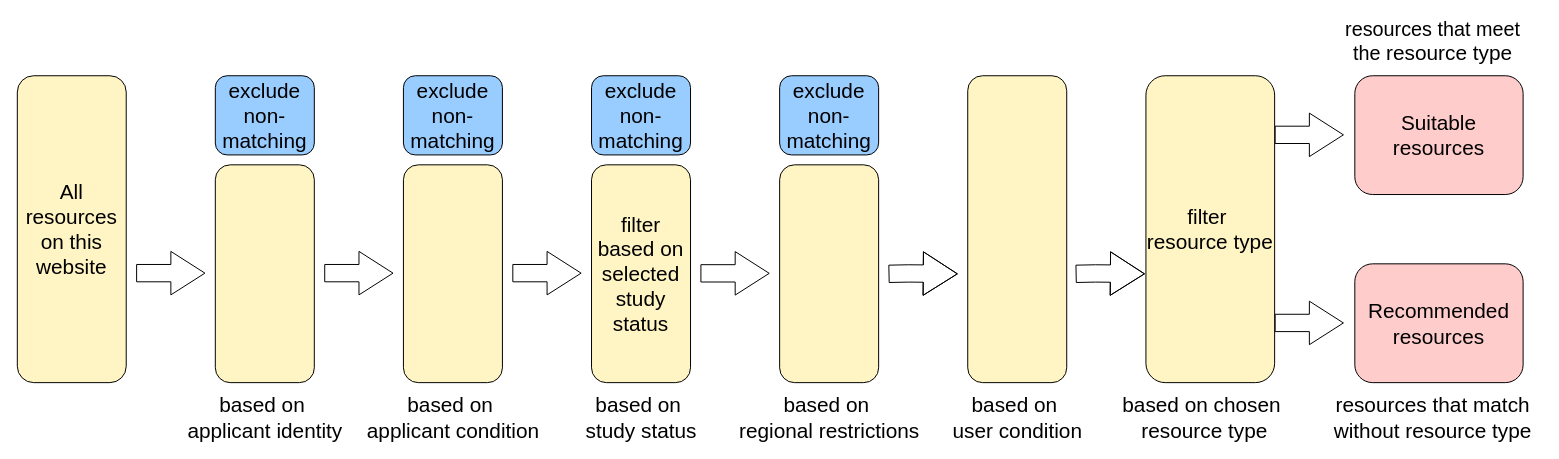
The diagram is 1559 pixels wide and 459 high, and some of its shapes have lost their labels. The centre of each missing label's shape, as x and y in pixels:
"filter based on selected applicant identity" goes at (x=264, y=273).
"filter based on selected applicant status" goes at (x=452, y=273).
"filter based on selected regional restrictions" goes at (x=829, y=273).
"include mandatory resources" goes at (x=1017, y=229).
